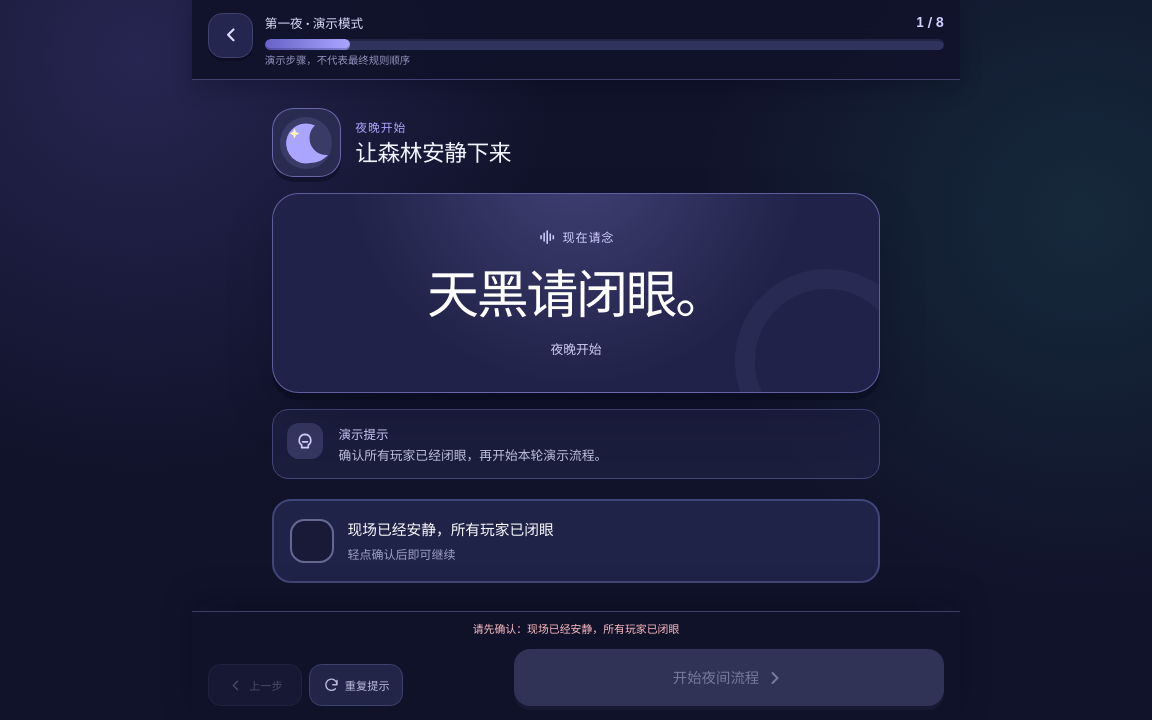
Scenario: 上帝夜间演示 › 禁选和死亡玩家不能成为目标，并提供原因
The image size is (1152, 720).
Click the checkbox labelled "现场已经安静，所有玩家已闭眼 轻点确认后即可继续" at (312, 541), box [272,499,880,583]
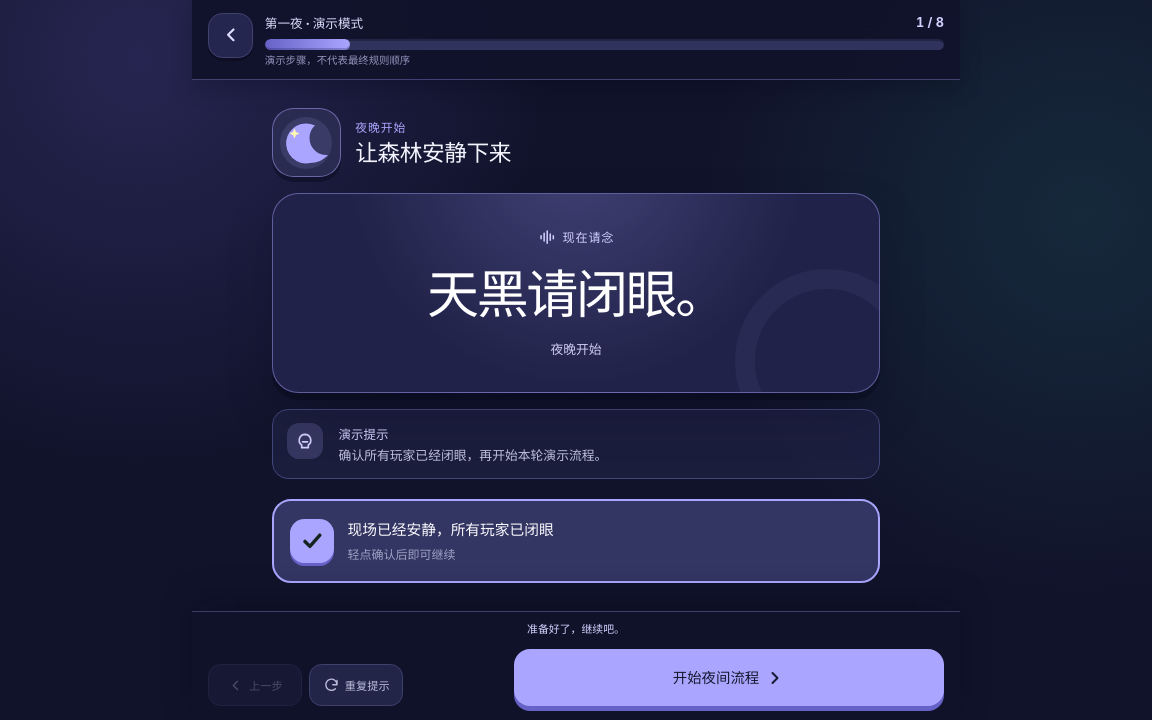
Click the button "开始夜间流程" at (729, 678), box [514,649,944,706]
(page scrolled)
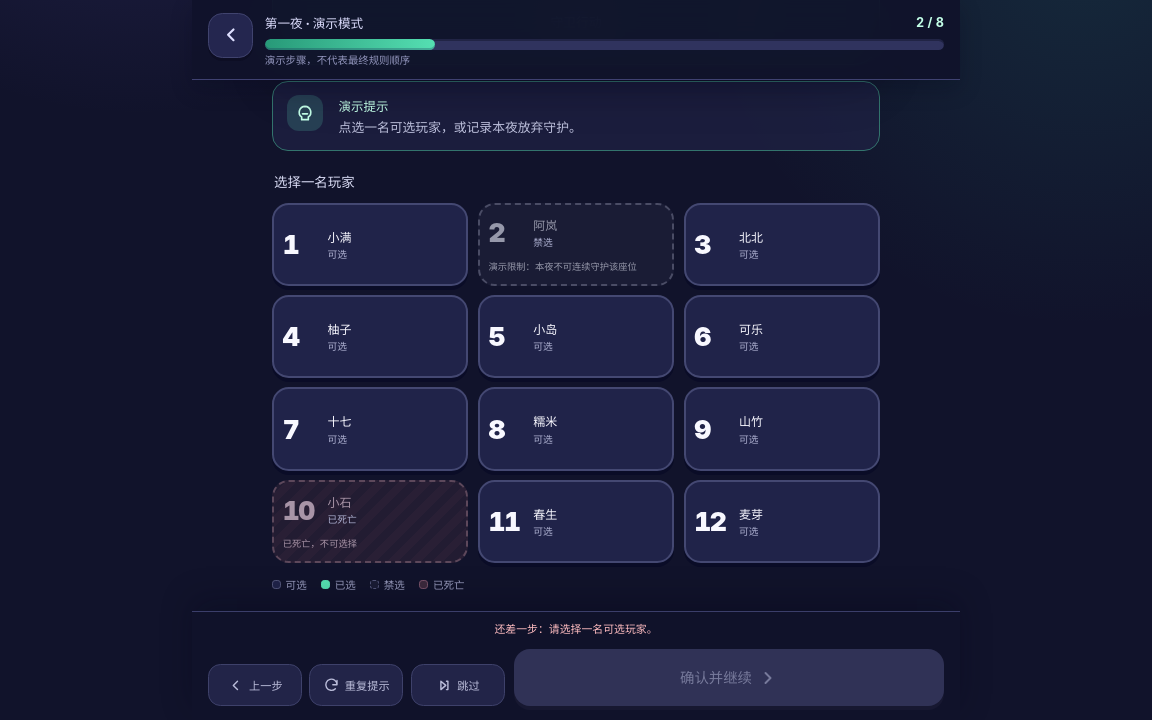
Expected: the button "2 阿岚 禁选 演示限制：本夜不可连续守护该座位" is disabled, [478,202,674,286]
Expected: the button "10 小石 已死亡 已死亡，不可选择" is disabled, [272,480,468,563]
Expected: the text "演示限制：本夜不可连续守护该座位" is shown, [488,261,637,272]
